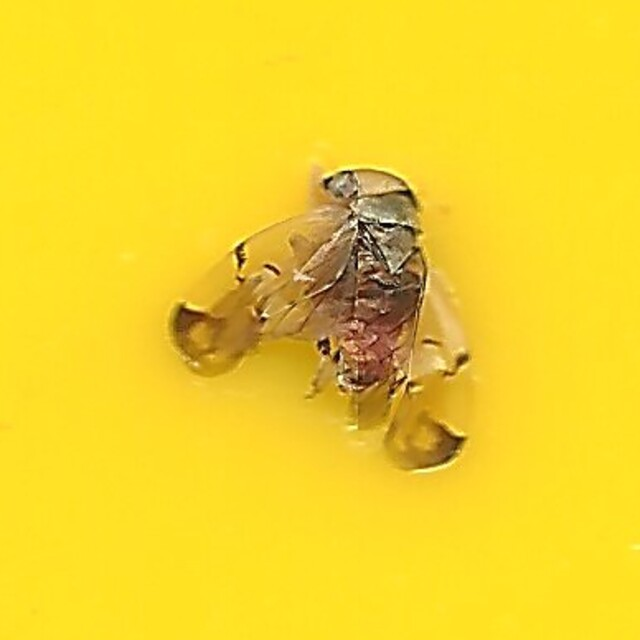Hemiptera: (165, 168, 475, 472)
